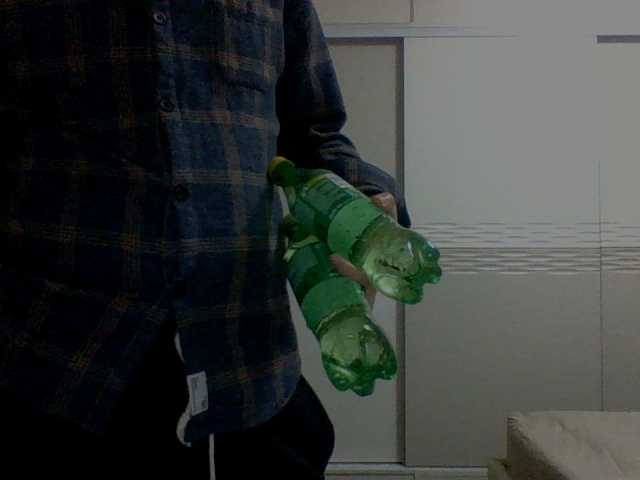Sprite: (268, 157, 442, 304), (279, 214, 397, 393)
